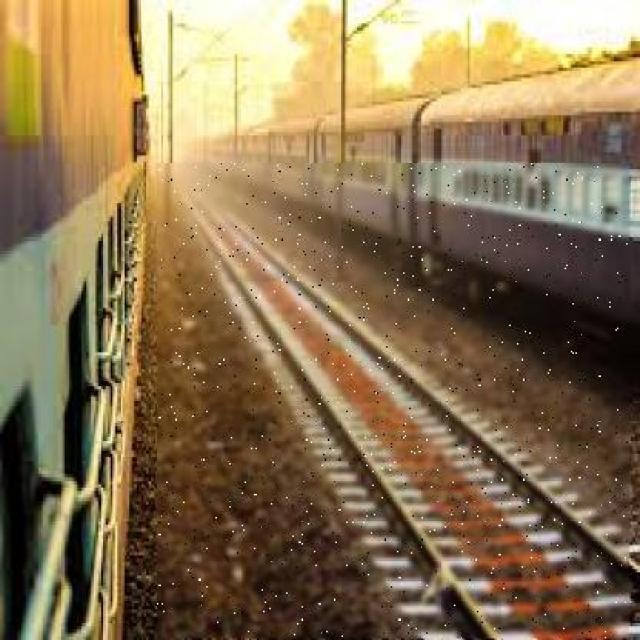rail: (158, 163, 628, 640)
